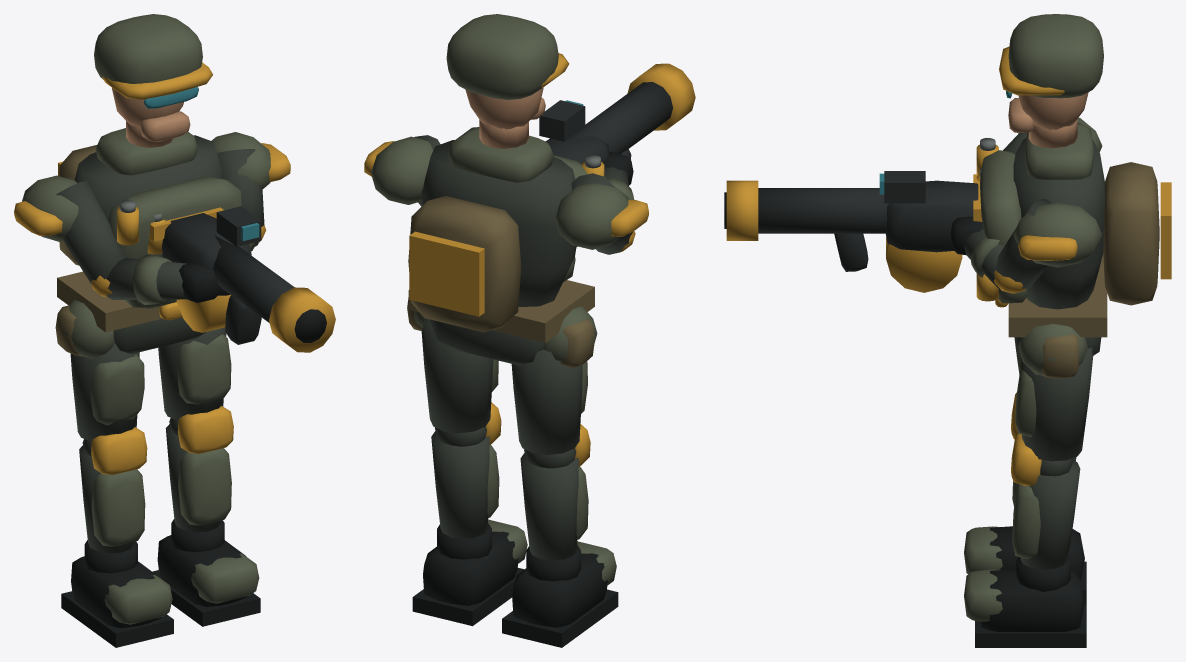
Rendered from Bastion_Grenadier_Static.obj.
3 renders of one model, left to right at view 1: azimuth 30°, elevation 25°; view 2: azimuth 150°, elevation 25°; view 3: azimuth 270°, elevation 25°, orthographic. The views are drawn at different scales.
Parts seen in each view (by area): view 1: Static_ShinGuard, Static_ThighPlate, Static_Helmet, Static_Boot, Static_ToeCap, Static_Thigh, Static_ChestArmor, Static_KneePad, Static_TorsoCore, Static_Sole, Static_LeftUpperArm, Static_LauncherTube (+29 smaller); view 2: Static_Thigh, Static_Shin, Static_TorsoCore, Static_Boot, Static_BackPack, Static_Helmet, Static_BackPlate, Static_Sole, Static_LauncherTube, Static_Collar, Static_LeftShoulder, Static_RightShoulder (+17 smaller); view 3: Static_BackPack, Static_Helmet, Static_TorsoCore, Static_Boot, Static_LauncherTube, Static_Thigh, Static_Receiver, Static_Shin, Static_Belt, Static_ChestArmor, Static_RightShoulder, Static_ToeCap (+21 smaller).
Part boxes in pixels (box(x1,y1,x2,y2)): Static_ShinGuard: box(91, 448, 231, 546); Static_ThighPlate: box(90, 334, 231, 425); Static_Helmet: box(94, 14, 202, 83); Static_Boot: box(71, 535, 248, 628); Static_ToeCap: box(104, 553, 259, 624); Static_Thigh: box(70, 327, 226, 441); Static_ChestArmor: box(108, 176, 241, 259); Static_KneePad: box(91, 406, 233, 475); Static_TorsoCore: box(74, 135, 221, 220); Static_Sole: box(61, 570, 260, 647); Static_LeftUpperArm: box(56, 181, 126, 284); Static_LauncherTube: box(212, 235, 294, 322); Static_Thigh: box(421, 321, 582, 455); Static_Shin: box(431, 431, 578, 560); Static_TorsoCore: box(421, 140, 576, 306); Static_Boot: box(423, 531, 607, 627); Static_BackPack: box(408, 196, 521, 332); Static_Helmet: box(446, 14, 558, 99); Static_BackPlate: box(409, 231, 484, 316); Static_Sole: box(412, 568, 618, 647); Static_LauncherTube: box(570, 82, 672, 154); Static_Collar: box(448, 127, 553, 182); Static_LeftShoulder: box(555, 183, 628, 249); Static_RightShoulder: box(371, 136, 433, 204); Static_BackPack: box(1103, 162, 1159, 305); Static_Helmet: box(1008, 14, 1103, 98); Static_TorsoCore: box(1013, 138, 1105, 309); Static_Boot: box(980, 526, 1084, 631); Static_LauncherTube: box(758, 188, 888, 233); Static_Thigh: box(1021, 347, 1093, 461); Static_Receiver: box(885, 180, 978, 252); Static_Shin: box(1020, 457, 1080, 569); Static_Belt: box(1008, 254, 1107, 337); Static_ChestArmor: box(980, 150, 1021, 246); Static_RightShoulder: box(1013, 202, 1102, 267); Static_ToeCap: box(964, 526, 1002, 621).
Bounding box in the file's own units: 0.9548 × 2.04 × 1.41.
1 material, 1 textured.
